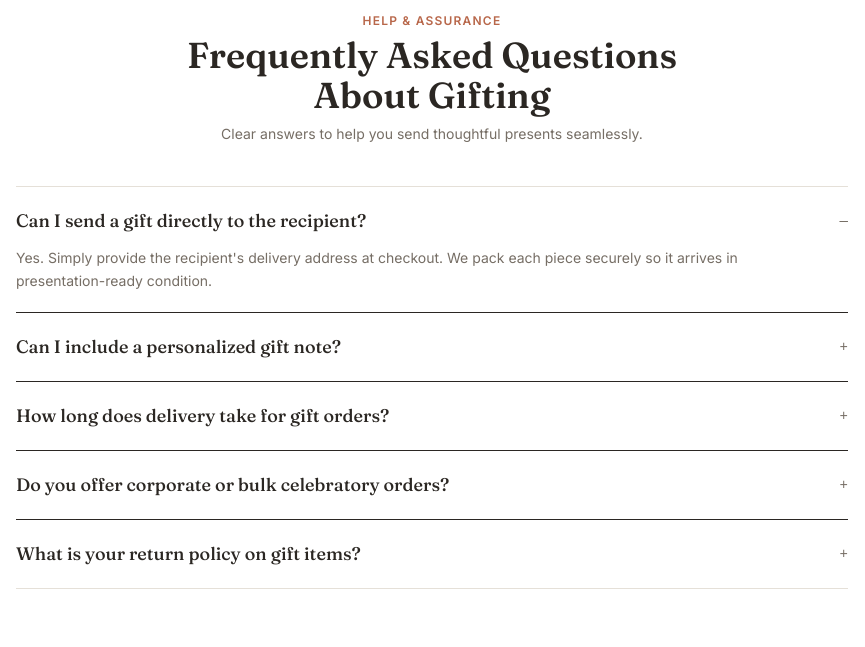
Gifting Page Storefront Experience › renders Gifting FAQ and toggles accordion items
Expected: the text "You can specify gift instructions" is not shown
Click the text "Can I include a personalized gift note?": {"x": 178, "y": 347} [16,333,341,361]
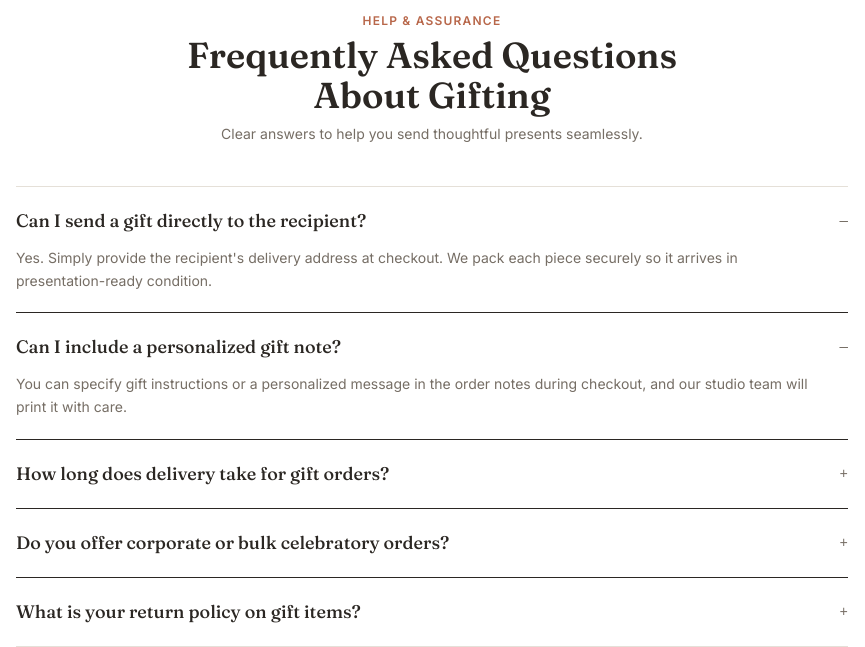
Now the text "You can specify gift instructions" is shown, box [16,375,808,415]
